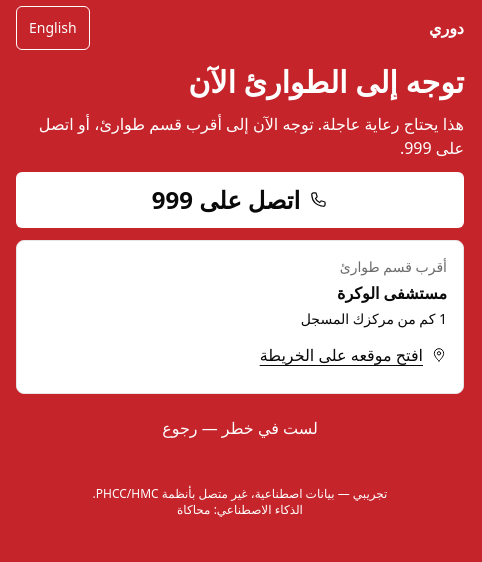
Test: S06 emergency › shows the server route on an override, with 999 still there and no ticket
This screenshot has width=482, height=562.
Click the button with test id "emergency-override": (240, 428) x1=16 y1=406 x2=464 y2=450
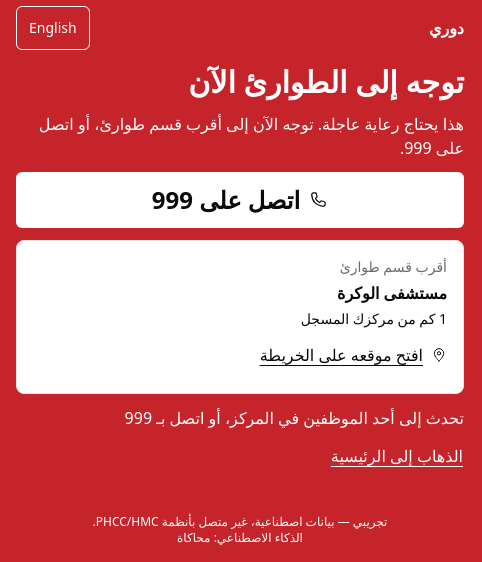
Now the message with test id "emergency-route" reads "تحدث إلى أحد الموظفين في المركز، أو اتصل بـ 999", box x1=125 y1=407 x2=464 y2=429
Now the button with test id "emergency-override" is gone
Click the button with test id "language-toggle": (53, 28) x1=16 y1=6 x2=90 y2=50
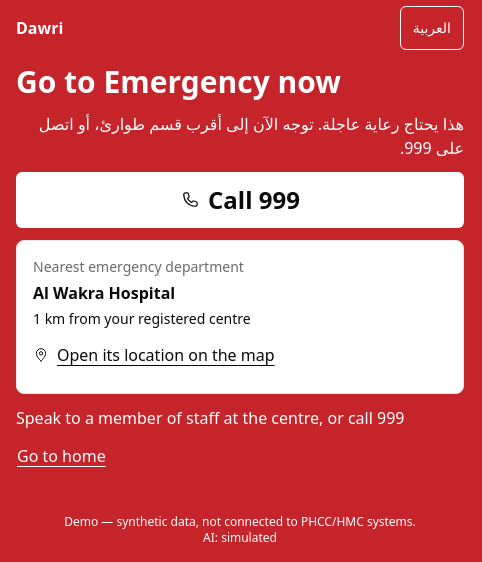
Now the message with test id "emergency-route" reads "Speak to a member of staff at the centre, or call 999", box x1=16 y1=407 x2=404 y2=429
